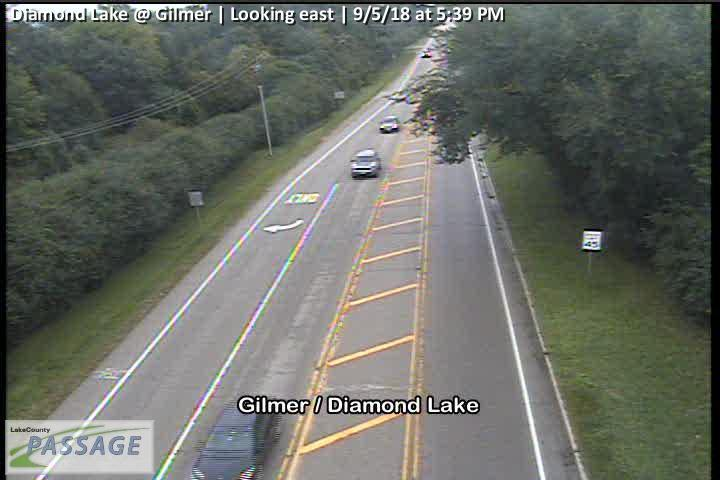Sedan: (191, 395, 279, 480), (350, 148, 381, 178), (380, 116, 400, 134)
